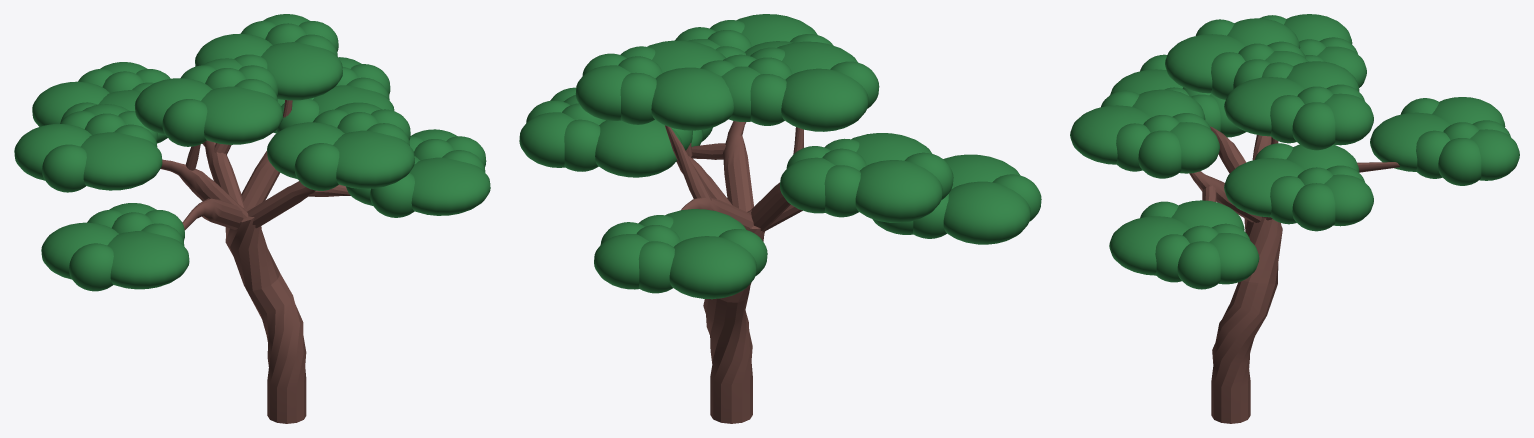
The model's file is tree wiv leaves yo.fbx.
3 views of the same model, side by side, from view 1: azimuth 30°, elevation 25°; view 2: azimuth 150°, elevation 25°; view 3: azimuth 270°, elevation 25° (orthographic). The views are drawn at different scales.
Parts seen in each view (by area): view 1: polySurface1; view 2: polySurface1; view 3: polySurface1.
Boxes of the visible parts, <box> form: polySurface1: <box>14,14,490,423</box>; polySurface1: <box>519,14,1041,423</box>; polySurface1: <box>1070,14,1519,423</box>.
Size of the model in its own units: 25.79 by 19.65 by 23.05.
